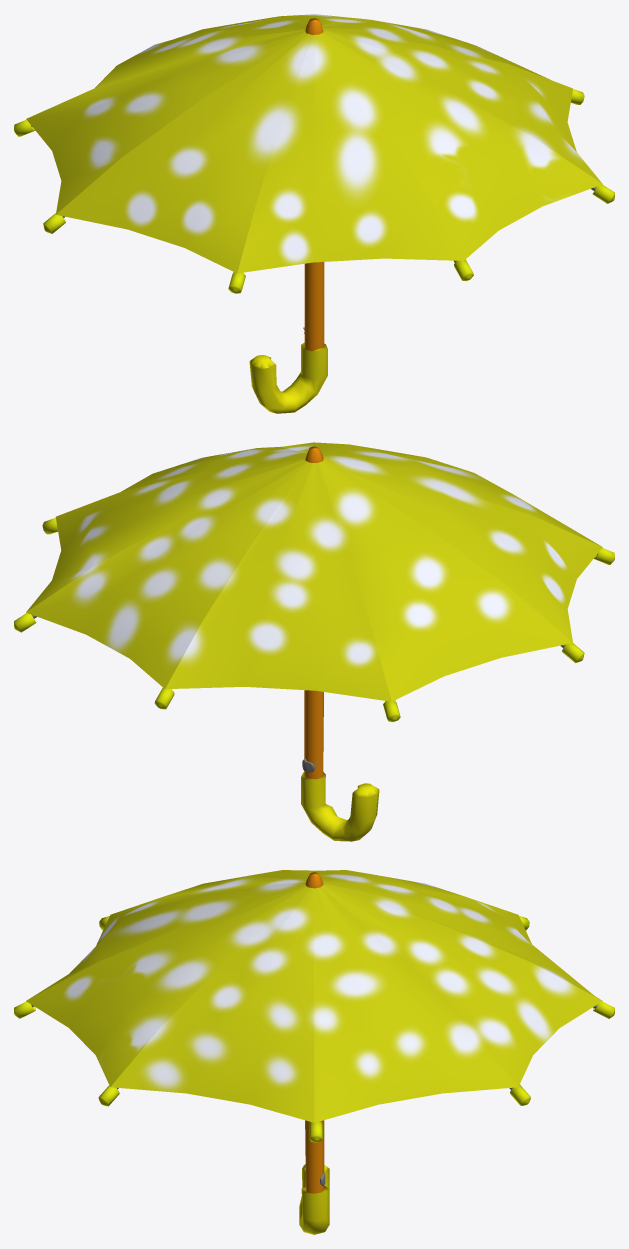
File: cheese-umbrella-v4.glb
3 views of the same model, one above another, from view 1: azimuth 30°, elevation 25°; view 2: azimuth 150°, elevation 25°; view 3: azimuth 270°, elevation 25° (orthographic). The views are drawn at different scales.
Parts seen in each view (by area): view 1: 布（チーズ柄）, 柱; view 2: 布（チーズ柄）, 柱; view 3: 布（チーズ柄）, 柱.
Boxes of the visible parts, <box> form: 布（チーズ柄）: <box>26,14,602,273</box>; 柱: <box>249,18,327,413</box>; 布（チーズ柄）: <box>26,442,602,701</box>; 柱: <box>301,446,379,841</box>; 布（チーズ柄）: <box>26,870,602,1122</box>; 柱: <box>299,872,329,1234</box>.
Size of the model in its own units: 2.08 by 1.42 by 2.08.
Materials: 22 (1 with a texture image).
